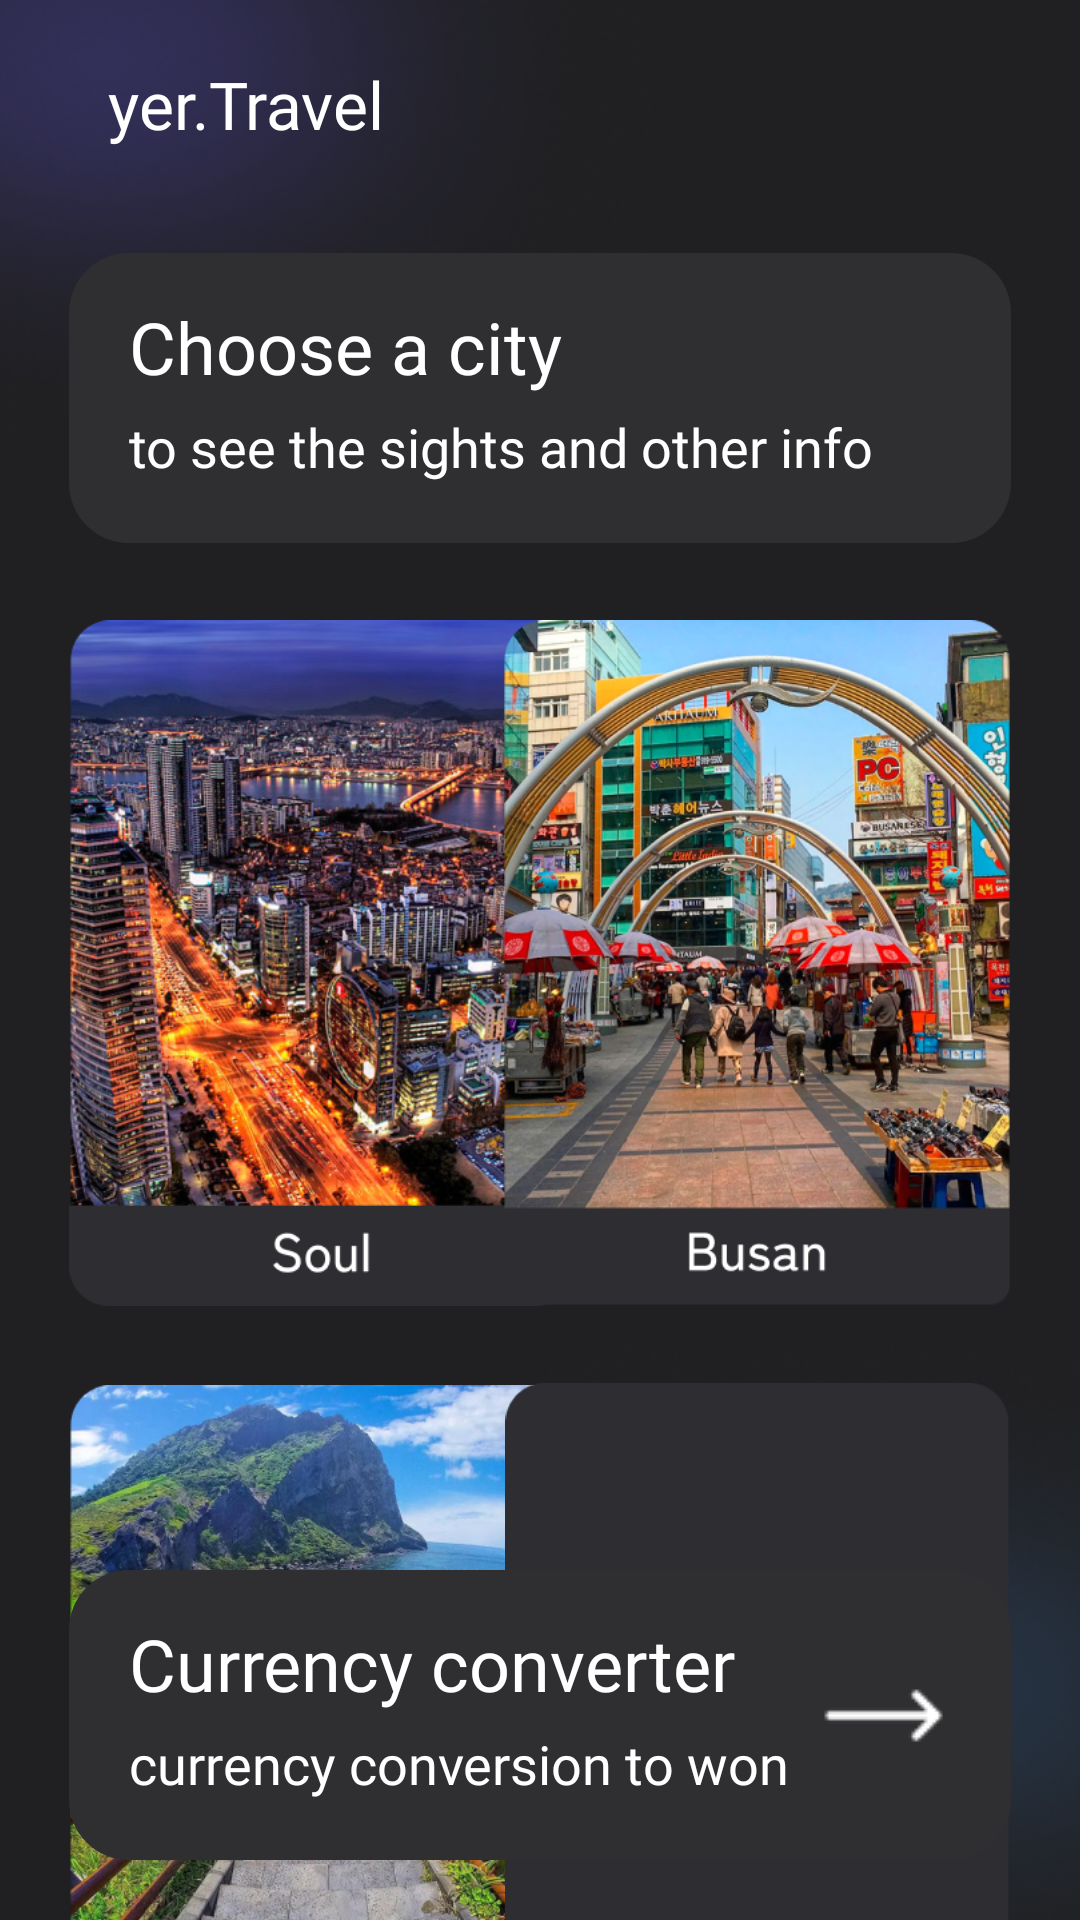

Icons on this 1080px×1920px Android screen, each with its box as (x1, y1, x2, y2):
Arrow: (824, 1689, 943, 1742)
